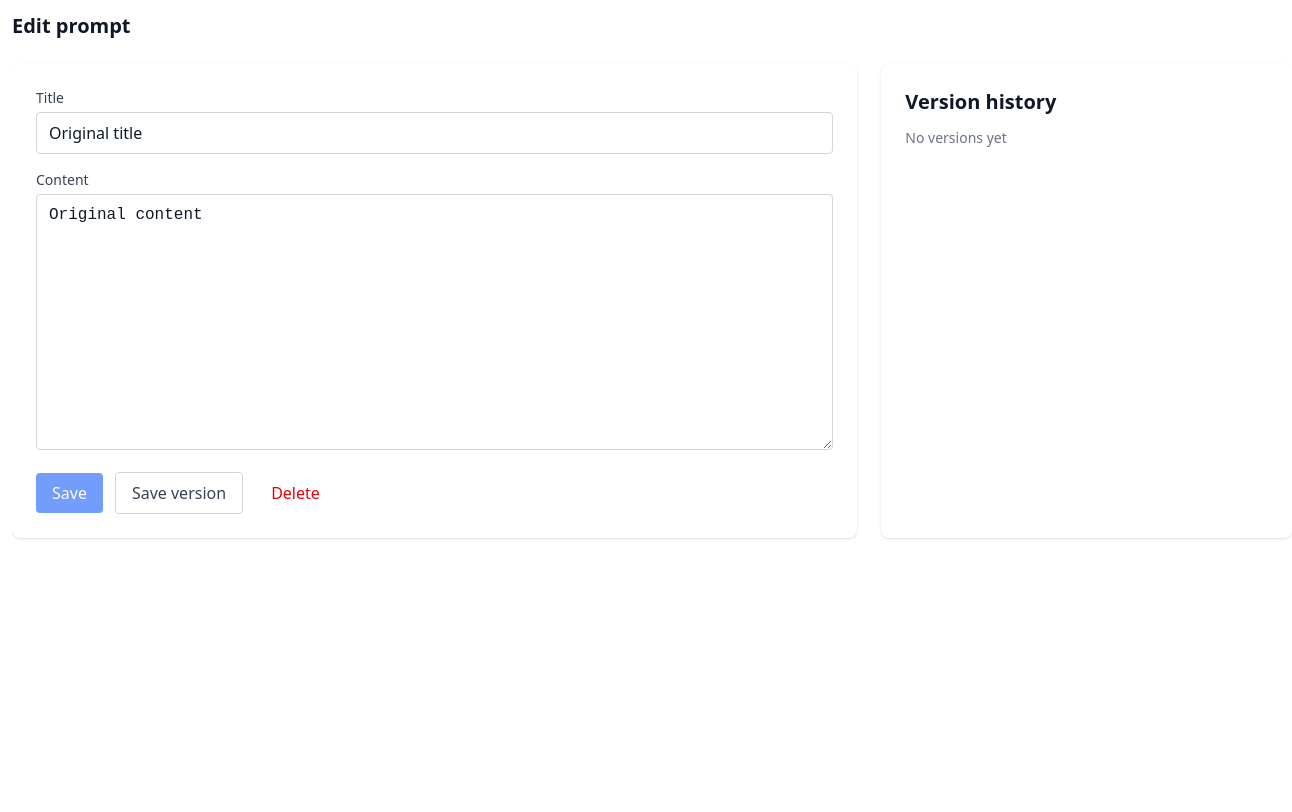
it: PromptEditorPage › disables Save version while dirty and re-enables it after saving
The image size is (1292, 812).
Type "!" into the field showing "Original title" at (435, 133), box [36,112,833,154]
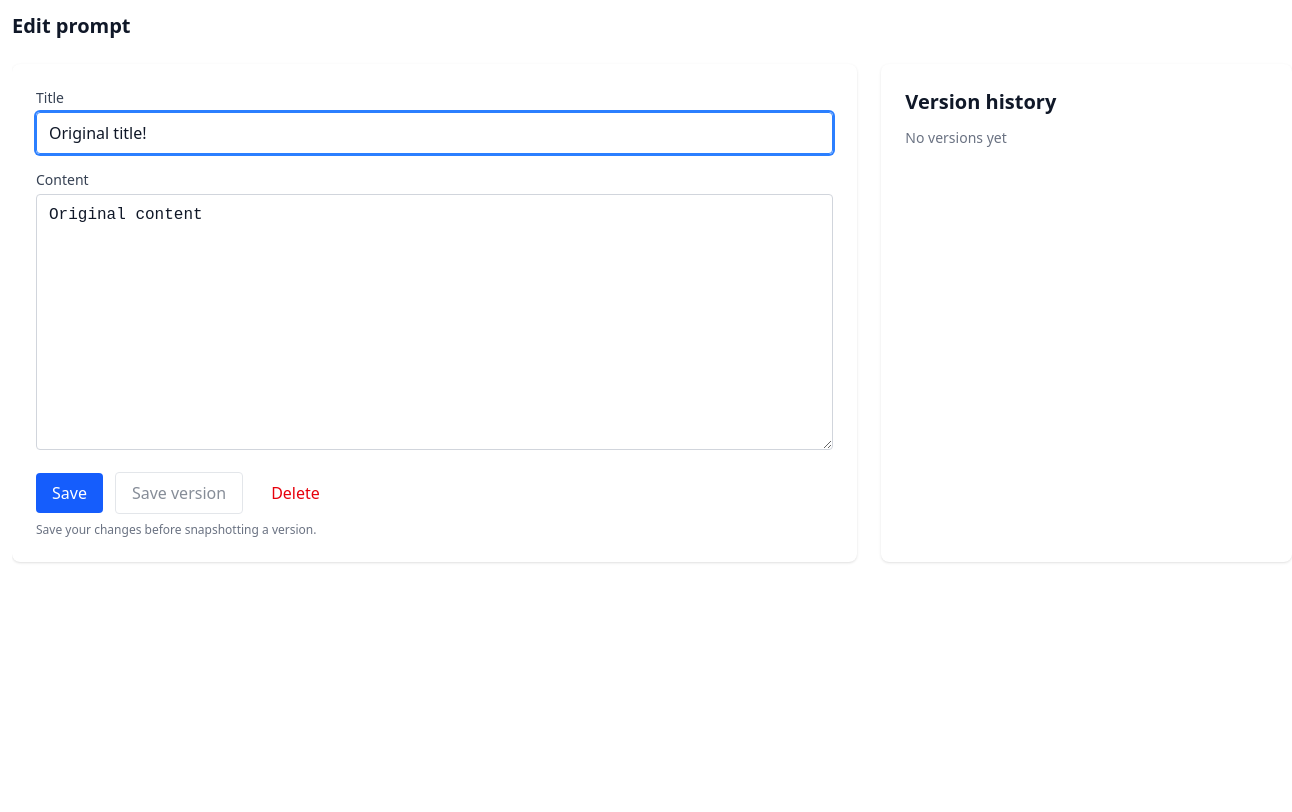
Check: the button "Save version" is disabled, box [115,472,243,514]
Check: the text "Save your changes before snapshotting a version." is shown, box [36,521,316,538]
Click the button "Save" at (69, 493), box [36,473,103,513]
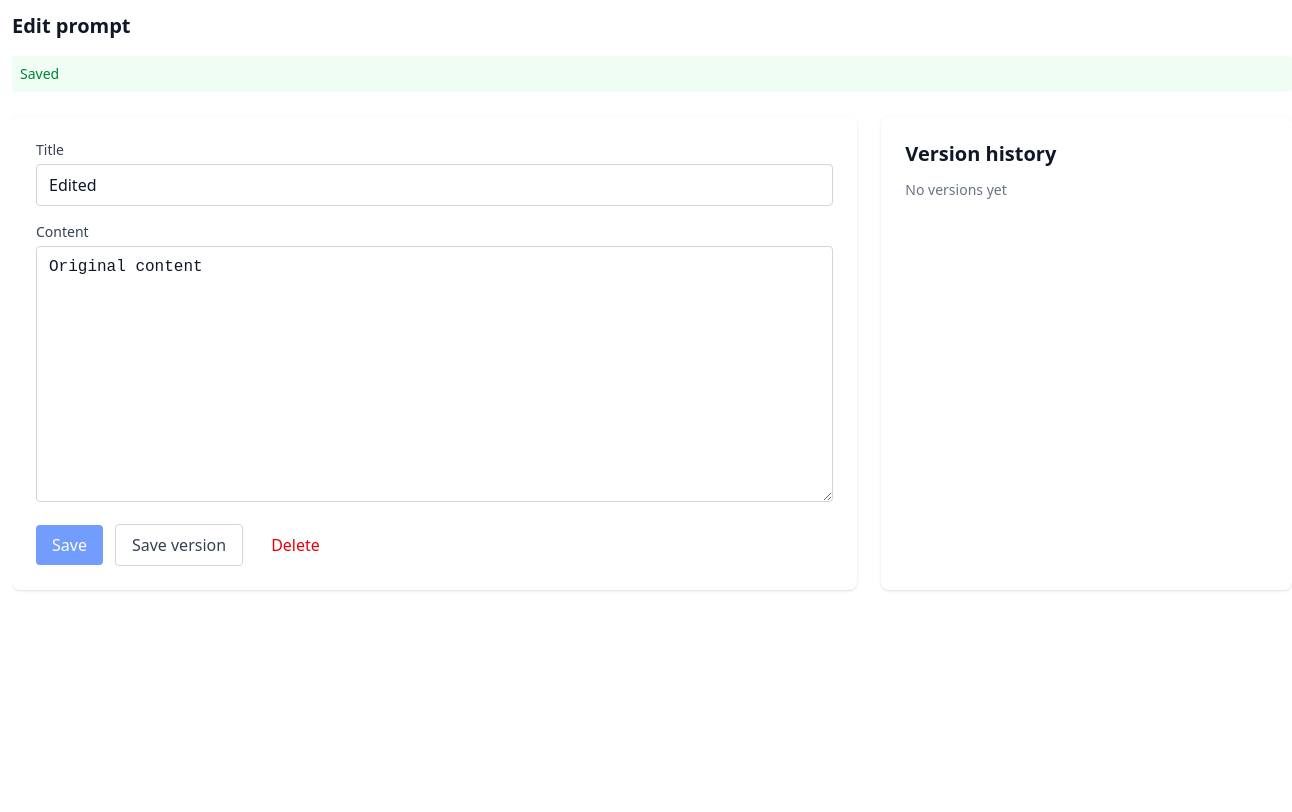
Check: the button "Save version" is enabled, box [115,524,243,566]
Check: the text "Save your changes before snapshotting" is gone
